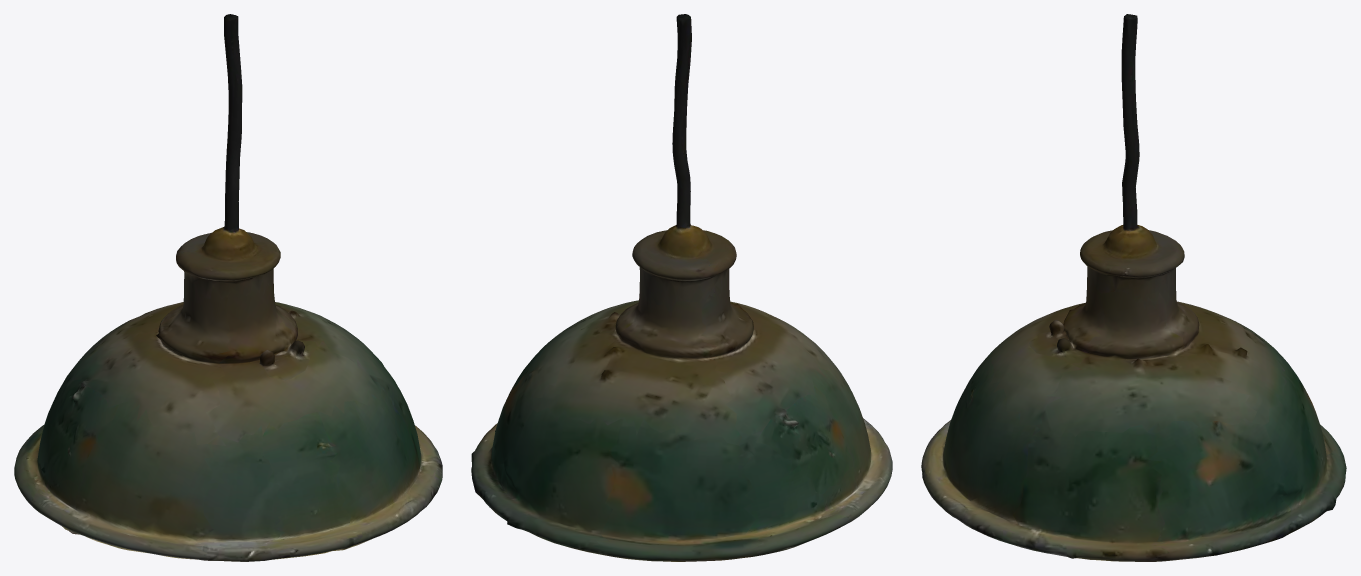
File: lamp_pendant.glb
3 views of the same model, side by side, from view 1: azimuth 30°, elevation 25°; view 2: azimuth 150°, elevation 25°; view 3: azimuth 270°, elevation 25° (orthographic).
Visible parts, largest first — view 1: tripo_node_591d09f6-4c68-4d8c-a58e-7248cb5f41ea; view 2: tripo_node_591d09f6-4c68-4d8c-a58e-7248cb5f41ea; view 3: tripo_node_591d09f6-4c68-4d8c-a58e-7248cb5f41ea.
Part boxes in pixels (<box>): tripo_node_591d09f6-4c68-4d8c-a58e-7248cb5f41ea: <box>14,14,442,561</box>; tripo_node_591d09f6-4c68-4d8c-a58e-7248cb5f41ea: <box>471,14,892,561</box>; tripo_node_591d09f6-4c68-4d8c-a58e-7248cb5f41ea: <box>921,14,1346,561</box>.
Bounding box in the file's own units: 0.7255 × 0.9996 × 0.7267.
1 material, 1 textured.
